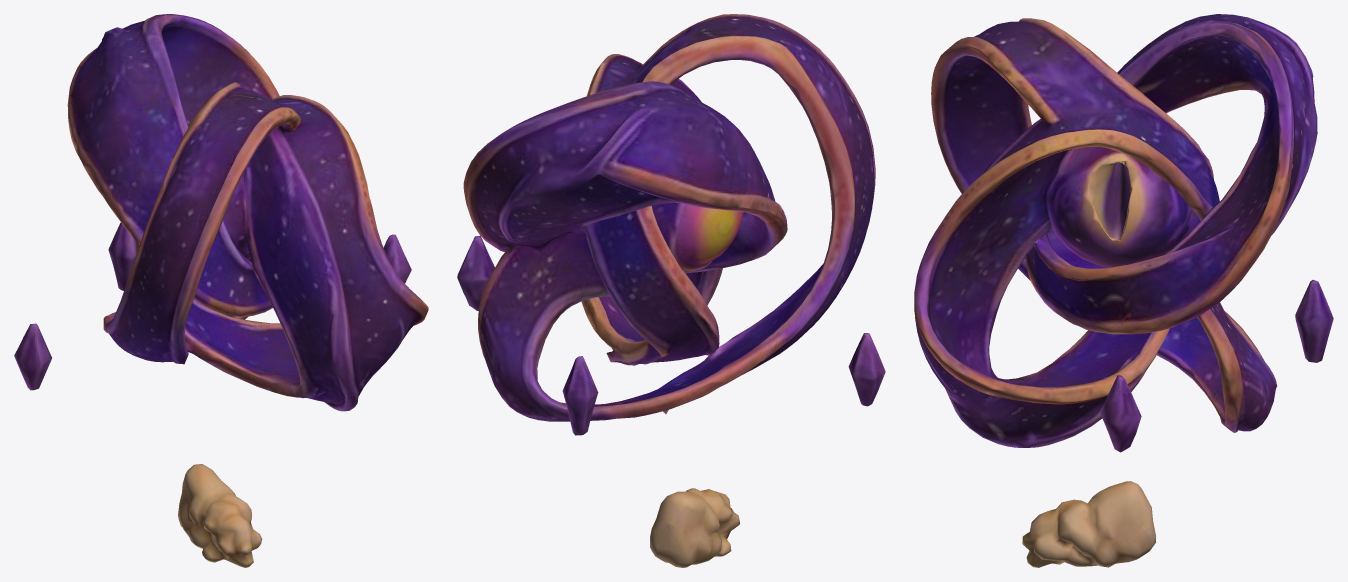
The model's file is parad.glb.
The picture shows the model from 3 angles, left to right: view 1: azimuth 30°, elevation 25°; view 2: azimuth 150°, elevation 25°; view 3: azimuth 270°, elevation 25°; orthographic projection. The views are drawn at different scales.
Parts seen in each view (by area): view 1: tripo_node_caa0c9fa-32f5-47d5-a0b2-34c930b38318; view 2: tripo_node_caa0c9fa-32f5-47d5-a0b2-34c930b38318; view 3: tripo_node_caa0c9fa-32f5-47d5-a0b2-34c930b38318.
Boxes of the visible parts, <box> form: tripo_node_caa0c9fa-32f5-47d5-a0b2-34c930b38318: <box>14,14,428,567</box>; tripo_node_caa0c9fa-32f5-47d5-a0b2-34c930b38318: <box>457,14,885,567</box>; tripo_node_caa0c9fa-32f5-47d5-a0b2-34c930b38318: <box>914,14,1333,567</box>.
Size of the model in its own units: 0.8491 by 1 by 0.7044.
Materials: 1 (1 with a texture image).
